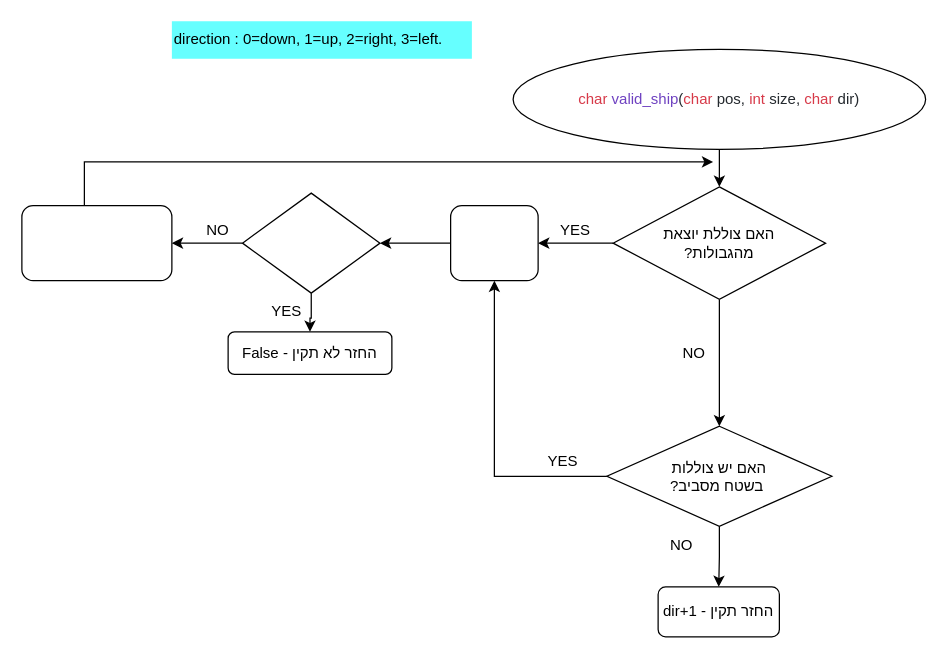
The diagram is 948 pixels wide and 659 high, and some of its shapes have lost their labels. Each missing label, with the centre of its shape:
"האם מספר ניסיונות שווה ל-4?" goes at point (310, 242).
"העלה מספר ניסיונות ב-1" goes at point (493, 242).
"תעבור לבדוק כיוון אחר מקסימום 4 פעמים (1 לכל כיוון)" goes at point (96, 242).
